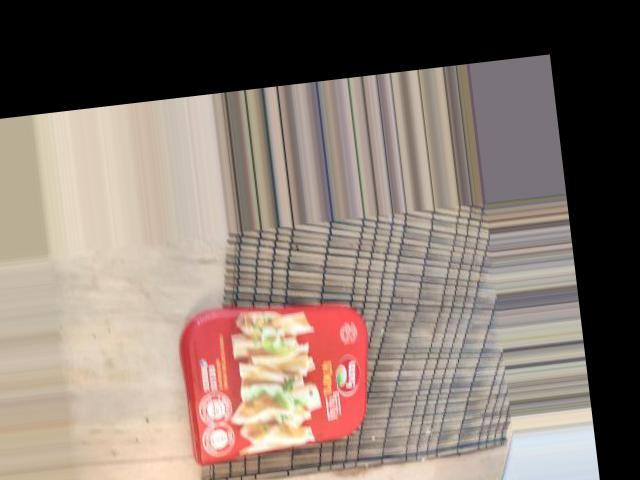cheese: (269, 232, 420, 421)
